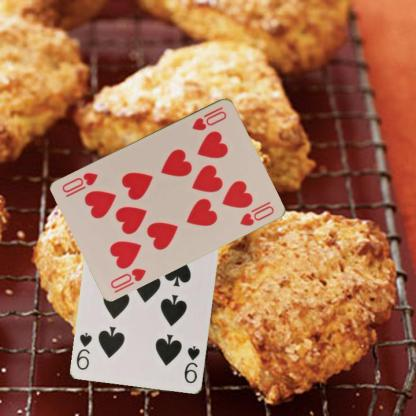10h: (190, 103, 228, 132), (108, 265, 147, 290)
9s: (181, 343, 202, 385)
